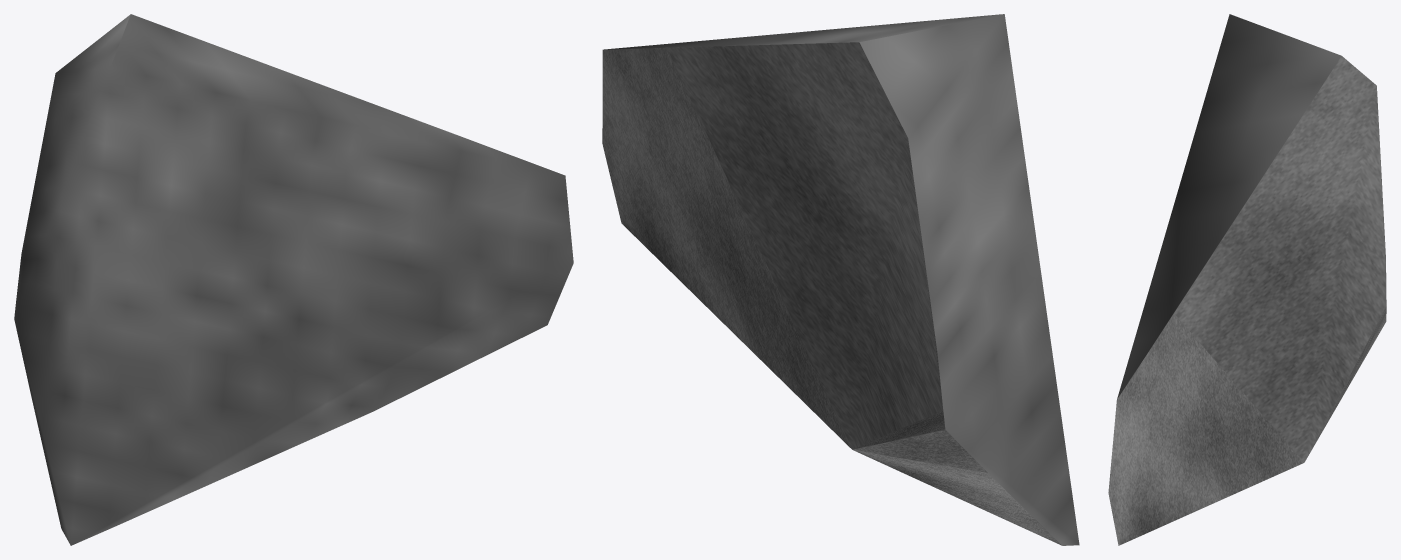
File: leg_1_cell_002.fbx
3 views of the same model, side by side, from view 1: azimuth 30°, elevation 25°; view 2: azimuth 150°, elevation 25°; view 3: azimuth 270°, elevation 25° (orthographic). The views are drawn at different scales.
Parts seen in each view (by area): view 1: leg_1_cell.002; view 2: leg_1_cell.002; view 3: leg_1_cell.002.
Part boxes in pixels (box(x1,y1,x2,y2)): leg_1_cell.002: box(14, 14, 573, 545); leg_1_cell.002: box(602, 14, 1079, 545); leg_1_cell.002: box(1108, 14, 1386, 545).
Bounding box in the file's own units: 20.46 × 19.5 × 10.14.
